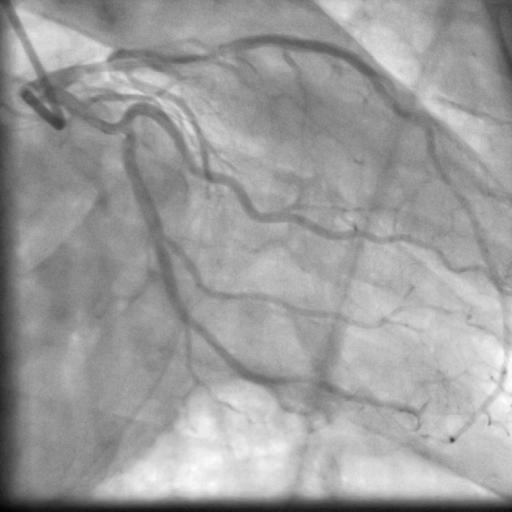Stenosis: (170, 40, 231, 67)
